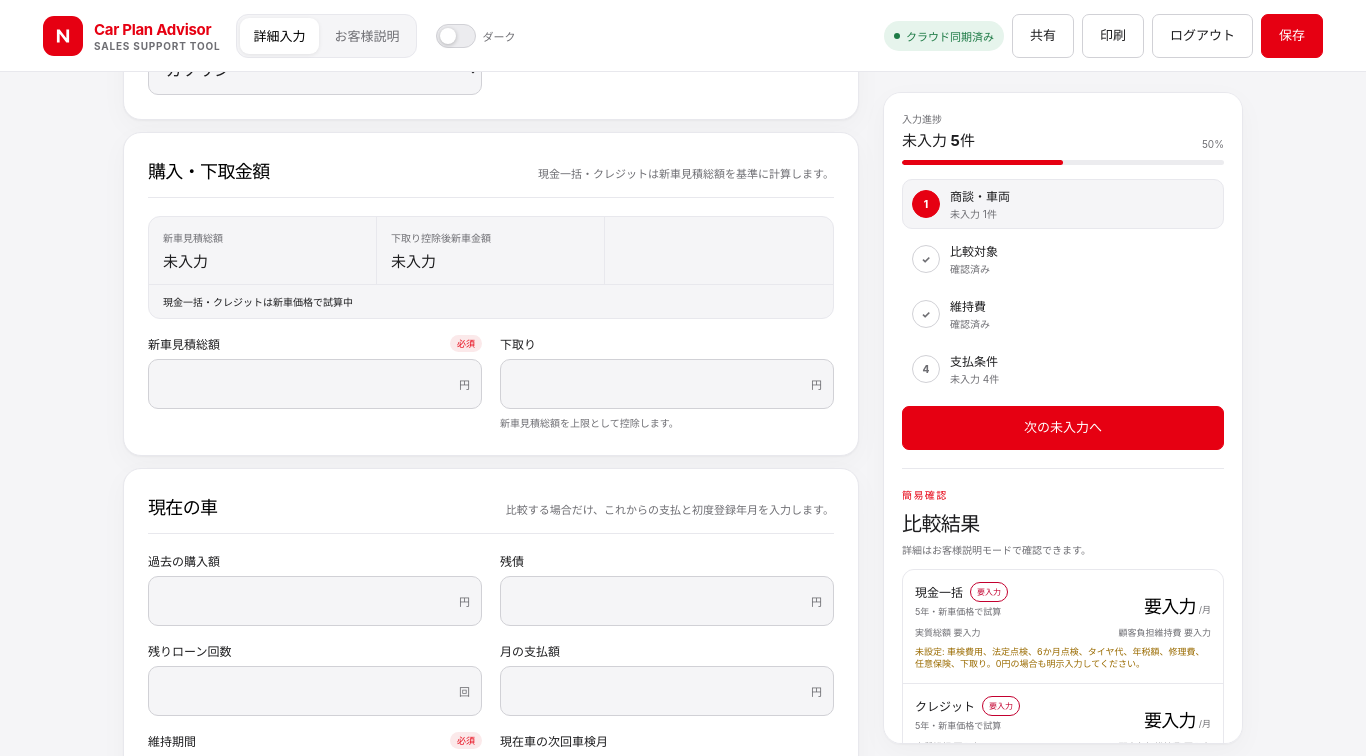
Test case: App › reveals required errors only after interaction and hides partial amounts
(page scrolled)
Click the field labelled "新車見積総額" at coordinates (315, 384), box [148,359,482,409]
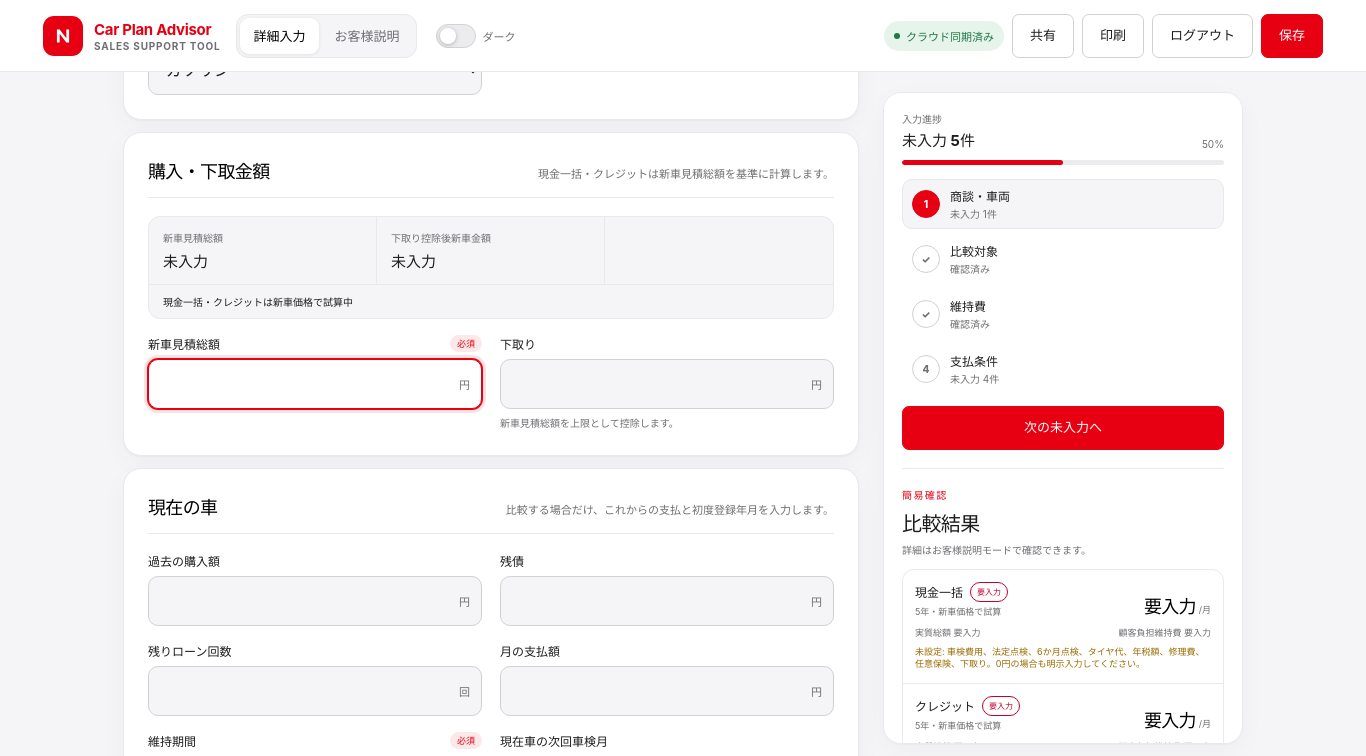
Press Tab
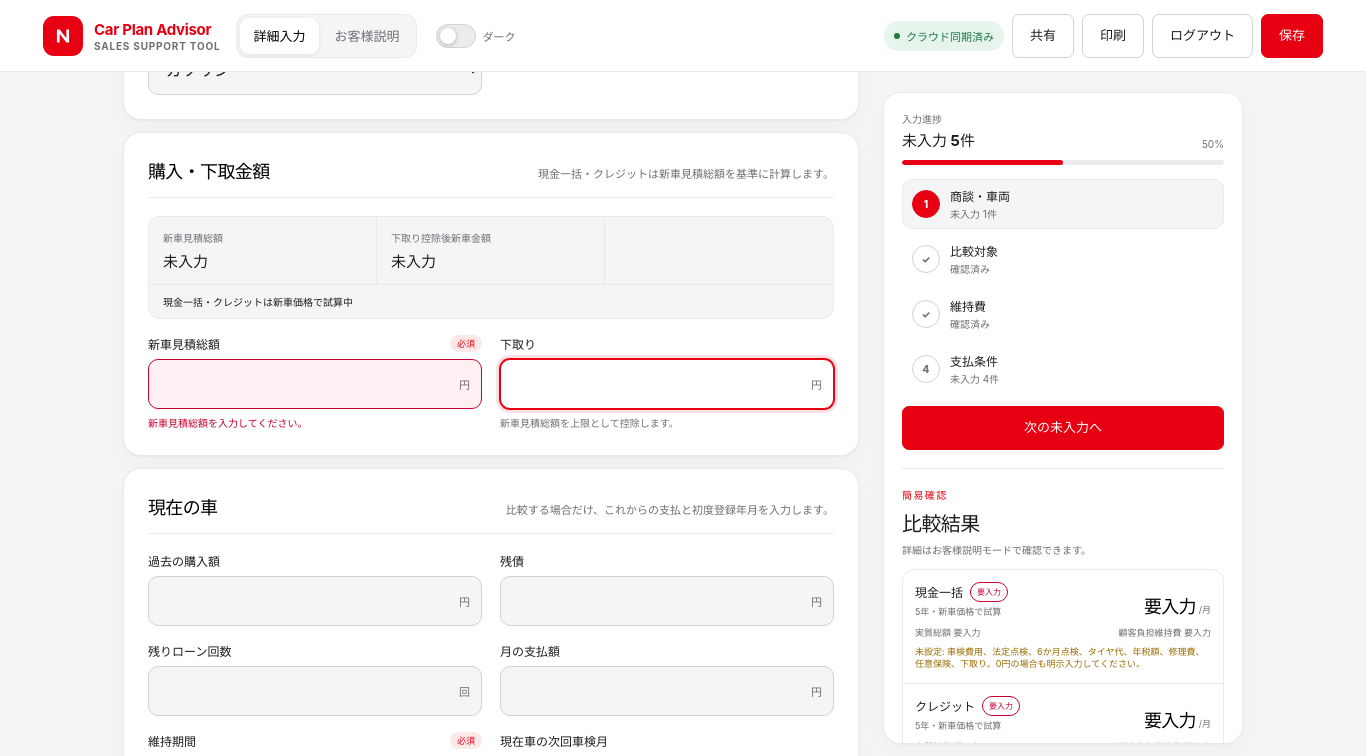
Click the button "4 支払条件 未入力 4件" at coordinates (974, 362), box [902,344,1224,394]
(page scrolled)
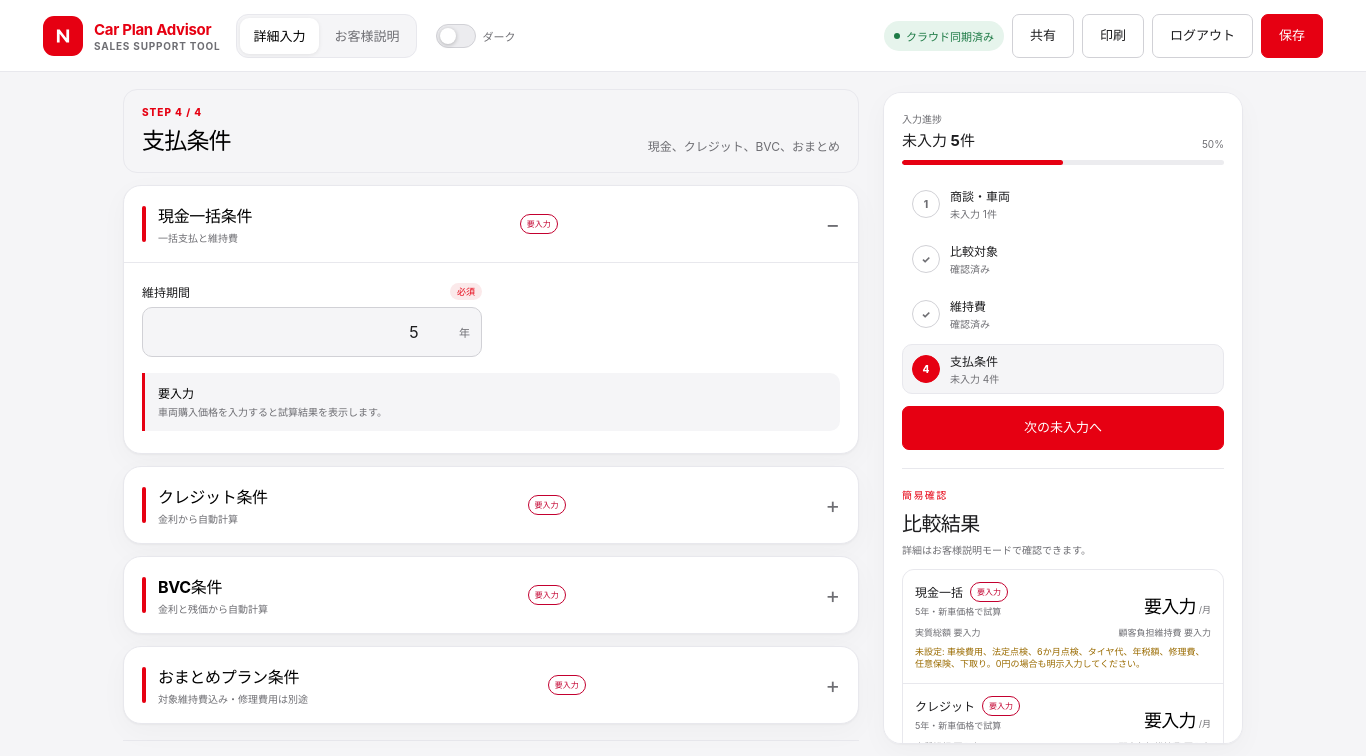
Expected: the text "要入力" in the row of "現金一括条件" is shown, [527,219,551,229]
